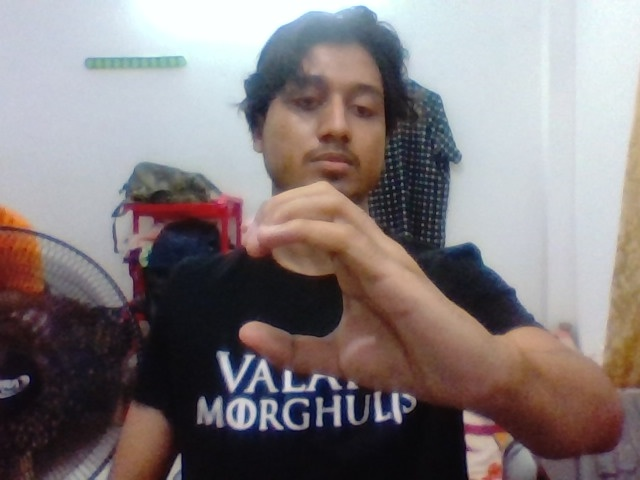C: (223, 175, 476, 418)
